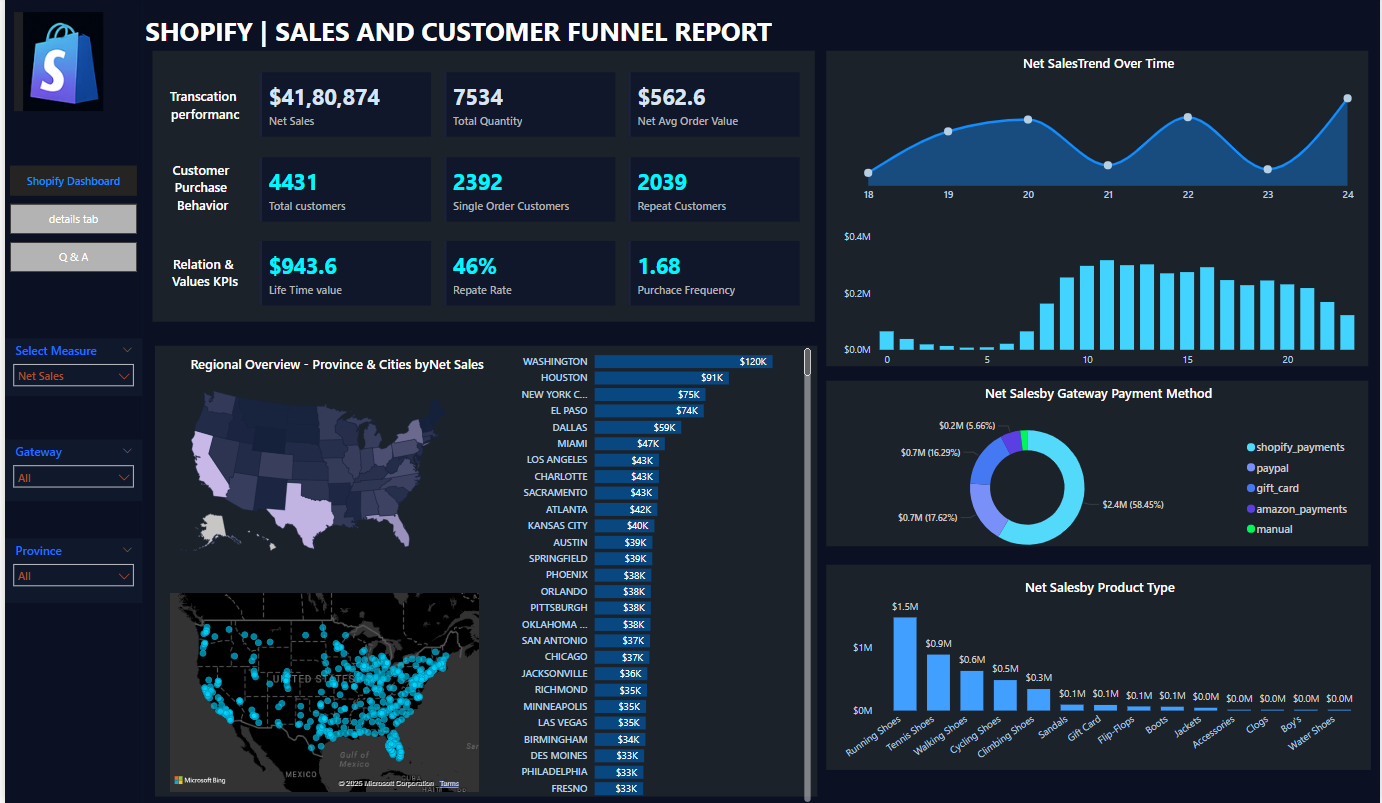

The dashboard page shown, as its layout file describes it:
{"tool":"powerbi","page":{"name":"Shopify Dashboard","canvas":[1700,1000],"ordinal":0},"visuals":[{"type":"shape","box":[0,0,170,1000.5],"z":0},{"type":"textbox","box":[169.2,15.1,792.6,73.7],"z":1000},{"type":"shape","box":[182.6,67,819.4,335.1],"z":2000},{"type":"cardVisual","fields":{"Data":["shopify_sales.Net Sales","shopify_sales.Total Quantity","shopify_sales.Net Avg Order Value"]},"box":[310,88.8,680.3,90.5],"z":3000},{"type":"card","fields":{"Values":["shopify_sales.Transcation perf"]},"box":[186,80.4,124,105.6],"z":4000},{"type":"cardVisual","fields":{"Data":["shopify_sales.Total customers","shopify_sales.Single Order Customers","shopify_sales.Repeat Customers"]},"box":[310,192.7,680.3,90.5],"z":5000},{"type":"card","fields":{"Values":["shopify_sales.Customer Purchase Behavior"]},"box":[182.6,179.3,124,105.6],"z":6000},{"type":"cardVisual","fields":{"Data":["shopify_sales.Life Time value","shopify_sales.Repate Rate","shopify_sales.Purchace Frequency"]},"box":[310,296.6,680.3,90.5],"z":7000},{"type":"card","fields":{"Values":["shopify_sales.Relation & Values KPIs"]},"box":[186,288.2,124,105.6],"z":8000},{"type":"shape","box":[186,430.6,819.4,558],"z":9000},{"type":"slicer","fields":{"Values":["Select Measure.Select Measure"]},"box":[0,422,169.5,71.2],"z":10000},{"type":"shapeMap","fields":{"Value":["shopify_sales.Net Sales"],"Category":["shopify_sales.Billing Address Province"]},"box":[182,472.1,398.4,229.5],"z":11000},{"type":"map","fields":{"Category":["shopify_sales.Location"]},"box":[200,732.8,391.8,255.7],"z":12000},{"type":"clusteredBarChart","fields":{"Y":["shopify_sales.Net Sales"],"Category":["shopify_sales.CITY"]},"box":[621.3,421.3,380.3,578.7],"z":13000},{"type":"card","fields":{"Values":["shopify_sales.Map Title"]},"box":[186.4,439,447.5,35.6],"z":14000},{"type":"shape","box":[1016.4,67.2,670.5,390.2],"z":15000},{"type":"areaChart","fields":{"Y":["shopify_sales.Net Sales"],"Category":["shopify_sales.Invoice Date.Variation.Date Hierarchy.Day"]},"box":[1052.5,101.6,623,160.7],"z":16000},{"type":"columnChart","fields":{"Y":["shopify_sales.Net Sales"],"Category":["shopify_sales.Hour"]},"box":[1032.8,283.6,642.6,183.6],"z":17000},{"type":"card","fields":{"Values":["shopify_sales.Trend Title"]},"box":[1082,67.2,541,36.1],"z":18000},{"type":"shape","box":[1016.4,475.4,670.5,205],"z":19000},{"type":"donutChart","fields":{"Y":["shopify_sales.Net Sales"],"Category":["shopify_sales.Gateway"]},"box":[990.2,511.5,685.2,190.2],"z":20000},{"type":"card","fields":{"Values":["shopify_sales.Gateway Title"]},"box":[1082,475.4,541,36.1],"z":21000},{"type":"shape","box":[1016.4,701.6,673.8,254.1],"z":22000},{"type":"columnChart","fields":{"Y":["shopify_sales.Net Sales"],"Category":["shopify_sales.Product Type"]},"box":[1032.8,732.8,654.1,223],"z":23000},{"type":"card","fields":{"Values":["shopify_sales.Product Title"]},"box":[1083.6,714.8,541,36.1],"z":24000},{"type":"slicer","fields":{"Values":["shopify_sales.Billing Address Province"]},"box":[0,669.5,169.5,79.7],"z":25000},{"type":"slicer","fields":{"Values":["shopify_sales.Gateway"]},"box":[0,547.5,169.5,76.3],"z":26000},{"type":"image","box":[0,13.4,132.4,132.4],"z":27000},{"type":"pageNavigator","box":[6.2,208.7,157.7,133],"z":28000}]}

Visuals, with their boxes on the page's 1700x1000 design canvas (x1, y1, x2, y2). These are canvas units, not pixel positions in the 1382x803 screenshot, which may show the page scaled, cropped or inside an application window:
shape: <bbox>0, 0, 170, 1000</bbox>
textbox: <bbox>169, 15, 962, 89</bbox>
shape: <bbox>183, 67, 1002, 402</bbox>
cardVisual - shopify_sales.Net Sales x shopify_sales.Total Quantity: <bbox>310, 89, 990, 179</bbox>
card - shopify_sales.Transcation perf: <bbox>186, 80, 310, 186</bbox>
cardVisual - shopify_sales.Total customers x shopify_sales.Single Order Customers: <bbox>310, 193, 990, 283</bbox>
card - shopify_sales.Customer Purchase Behavior: <bbox>183, 179, 307, 285</bbox>
cardVisual - shopify_sales.Life Time value x shopify_sales.Repate Rate: <bbox>310, 297, 990, 387</bbox>
card - shopify_sales.Relation & Values KPIs: <bbox>186, 288, 310, 394</bbox>
shape: <bbox>186, 431, 1005, 989</bbox>
slicer - Select Measure.Select Measure: <bbox>0, 422, 170, 493</bbox>
shapeMap - shopify_sales.Net Sales x shopify_sales.Billing Address Province: <bbox>182, 472, 580, 702</bbox>
map - shopify_sales.Location: <bbox>200, 733, 592, 988</bbox>
clusteredBarChart - shopify_sales.Net Sales x shopify_sales.CITY: <bbox>621, 421, 1002, 1000</bbox>
card - shopify_sales.Map Title: <bbox>186, 439, 634, 475</bbox>
shape: <bbox>1016, 67, 1687, 457</bbox>
areaChart - shopify_sales.Net Sales x shopify_sales.Invoice Date.Variation.Date Hierarchy.Day: <bbox>1052, 102, 1676, 262</bbox>
columnChart - shopify_sales.Net Sales x shopify_sales.Hour: <bbox>1033, 284, 1675, 467</bbox>
card - shopify_sales.Trend Title: <bbox>1082, 67, 1623, 103</bbox>
shape: <bbox>1016, 475, 1687, 680</bbox>
donutChart - shopify_sales.Net Sales x shopify_sales.Gateway: <bbox>990, 512, 1675, 702</bbox>
card - shopify_sales.Gateway Title: <bbox>1082, 475, 1623, 512</bbox>
shape: <bbox>1016, 702, 1690, 956</bbox>
columnChart - shopify_sales.Net Sales x shopify_sales.Product Type: <bbox>1033, 733, 1687, 956</bbox>
card - shopify_sales.Product Title: <bbox>1084, 715, 1625, 751</bbox>
slicer - shopify_sales.Billing Address Province: <bbox>0, 670, 170, 749</bbox>
slicer - shopify_sales.Gateway: <bbox>0, 548, 170, 624</bbox>
image: <bbox>0, 13, 132, 146</bbox>
pageNavigator: <bbox>6, 209, 164, 342</bbox>
